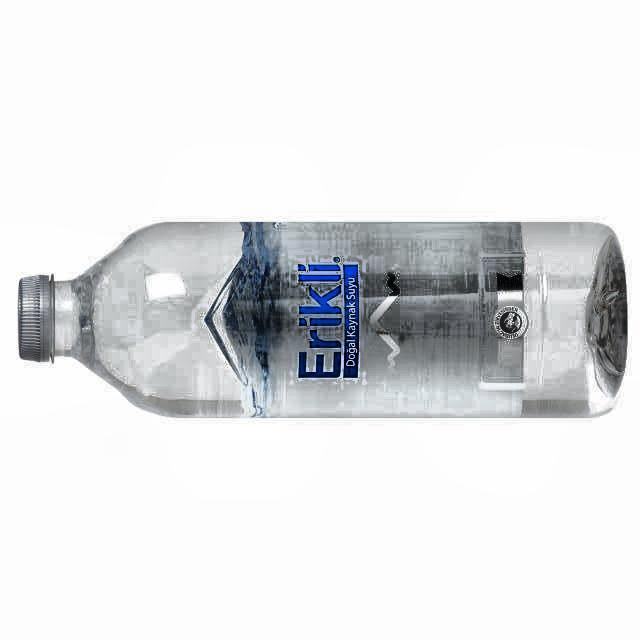plastic: (19, 222, 625, 417)
